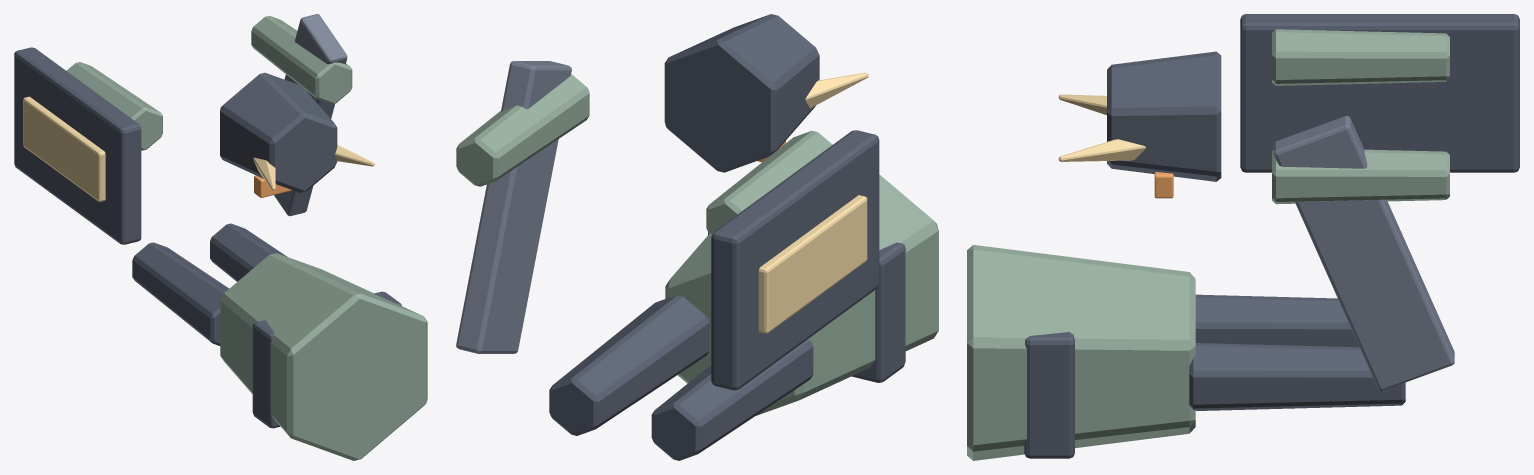
Rendered from Enemy_CorruptedVanguard.fbx.
The picture shows the model from 3 angles, left to right: view 1: azimuth 30°, elevation 25°; view 2: azimuth 150°, elevation 25°; view 3: azimuth 270°, elevation 25°; orthographic projection. The views are drawn at different scales.
Parts seen in each view (by area): view 1: Torso, TowerShield, Helm, LeftLegMesh, ShieldTrim, RightArmMesh, CleaverBlade, LeftArmMesh, RightLegMesh, ChestBand, RightHorn, EyeSlit (+1 smaller); view 2: TowerShield, Helm, CleaverBlade, Torso, RightLegMesh, LeftLegMesh, ShieldTrim, RightArmMesh, ChestBand, LeftArmMesh, LeftHorn; view 3: Torso, TowerShield, CleaverBlade, Helm, RightLegMesh, LeftArmMesh, RightArmMesh, LeftLegMesh, ChestBand, RightHorn, LeftHorn.
Part boxes in pixels (x1,y1,x2,y2): Torso: (220, 253, 427, 460); TowerShield: (14, 47, 141, 244); Helm: (220, 72, 337, 192); LeftLegMesh: (132, 242, 229, 345); ShieldTrim: (23, 96, 105, 201); RightArmMesh: (251, 15, 352, 104); CleaverBlade: (274, 14, 347, 216); LeftArmMesh: (66, 62, 162, 150); RightLegMesh: (210, 223, 287, 281); ChestBand: (252, 291, 401, 428); RightHorn: (335, 144, 374, 166); EyeSlit: (254, 175, 292, 197); TowerShield: (711, 130, 879, 390); Helm: (664, 14, 819, 172); CleaverBlade: (456, 61, 571, 353); Torso: (665, 174, 938, 415); RightLegMesh: (549, 295, 709, 435); LeftLegMesh: (651, 339, 813, 460); ShieldTrim: (758, 195, 867, 333); RightArmMesh: (456, 74, 589, 186); ChestBand: (708, 232, 905, 382); LeftArmMesh: (706, 130, 832, 235); LeftHorn: (805, 72, 868, 108); Torso: (967, 245, 1195, 460); TowerShield: (1240, 14, 1519, 172); CleaverBlade: (1273, 115, 1454, 390); Helm: (1107, 51, 1221, 181); RightLegMesh: (1189, 343, 1405, 410); LeftArmMesh: (1272, 29, 1449, 85); RightArmMesh: (1272, 149, 1449, 204); LeftLegMesh: (1195, 294, 1359, 347); ChestBand: (1024, 332, 1074, 458); RightHorn: (1058, 139, 1145, 161); LeftHorn: (1058, 94, 1106, 115).
Size of the model in its own units: 1.17 by 1.41 by 1.74.
